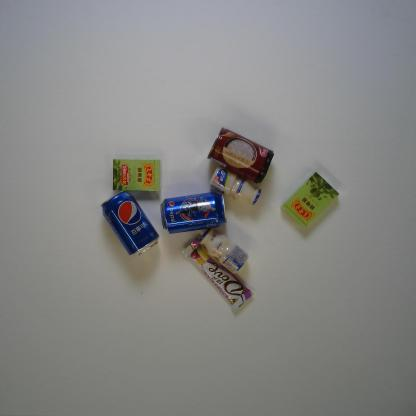Candy: (281, 172, 340, 230), (112, 158, 161, 192)
Canned Food: (206, 126, 275, 185)
Chocolate: (181, 238, 252, 312)
Drink: (100, 190, 160, 257), (160, 191, 227, 235)
Milk: (198, 228, 249, 274), (208, 165, 262, 206)
